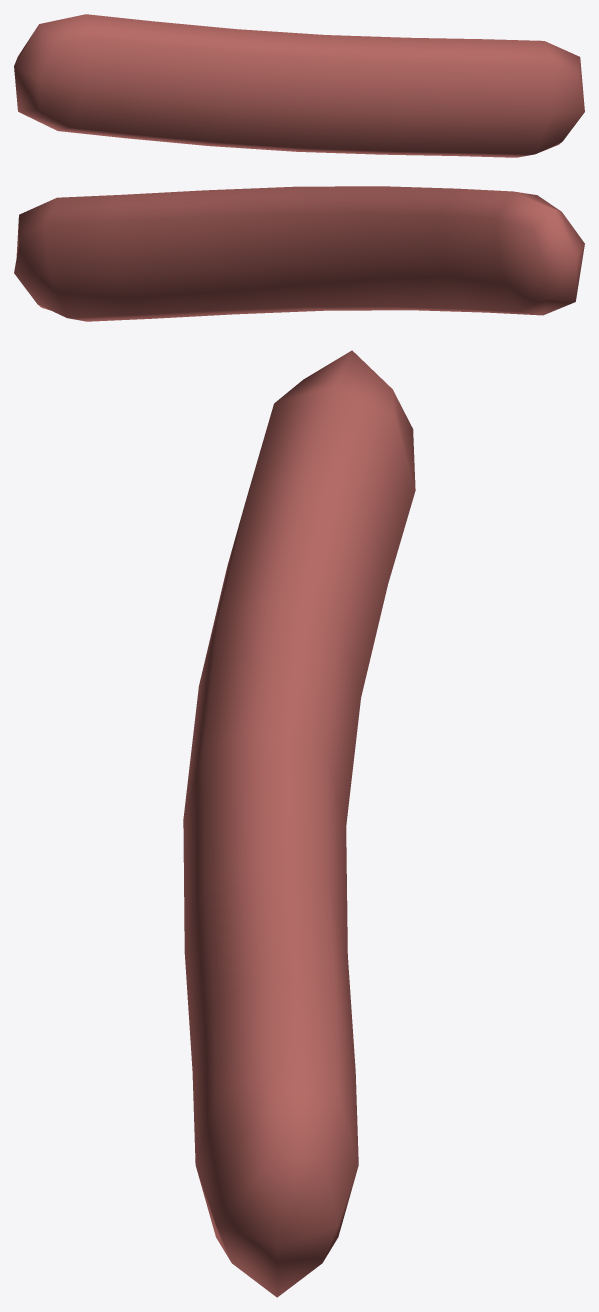
Rendered from agiz02.fbx.
3 views of the same model, one above another, from view 1: azimuth 30°, elevation 25°; view 2: azimuth 150°, elevation 25°; view 3: azimuth 270°, elevation 25° (orthographic). The views are drawn at different scales.
Parts seen in each view (by area): view 1: agiz02; view 2: agiz02; view 3: agiz02.
Part boxes in pixels (<box>): agiz02: <box>14,14,584,157</box>; agiz02: <box>14,186,584,321</box>; agiz02: <box>183,350,415,1297</box>.
Bounding box in the file's own units: 0.5567 × 0.2277 × 0.1021.
